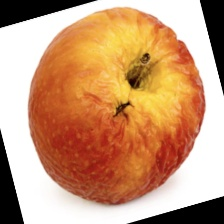apple: (28, 0, 165, 185)
